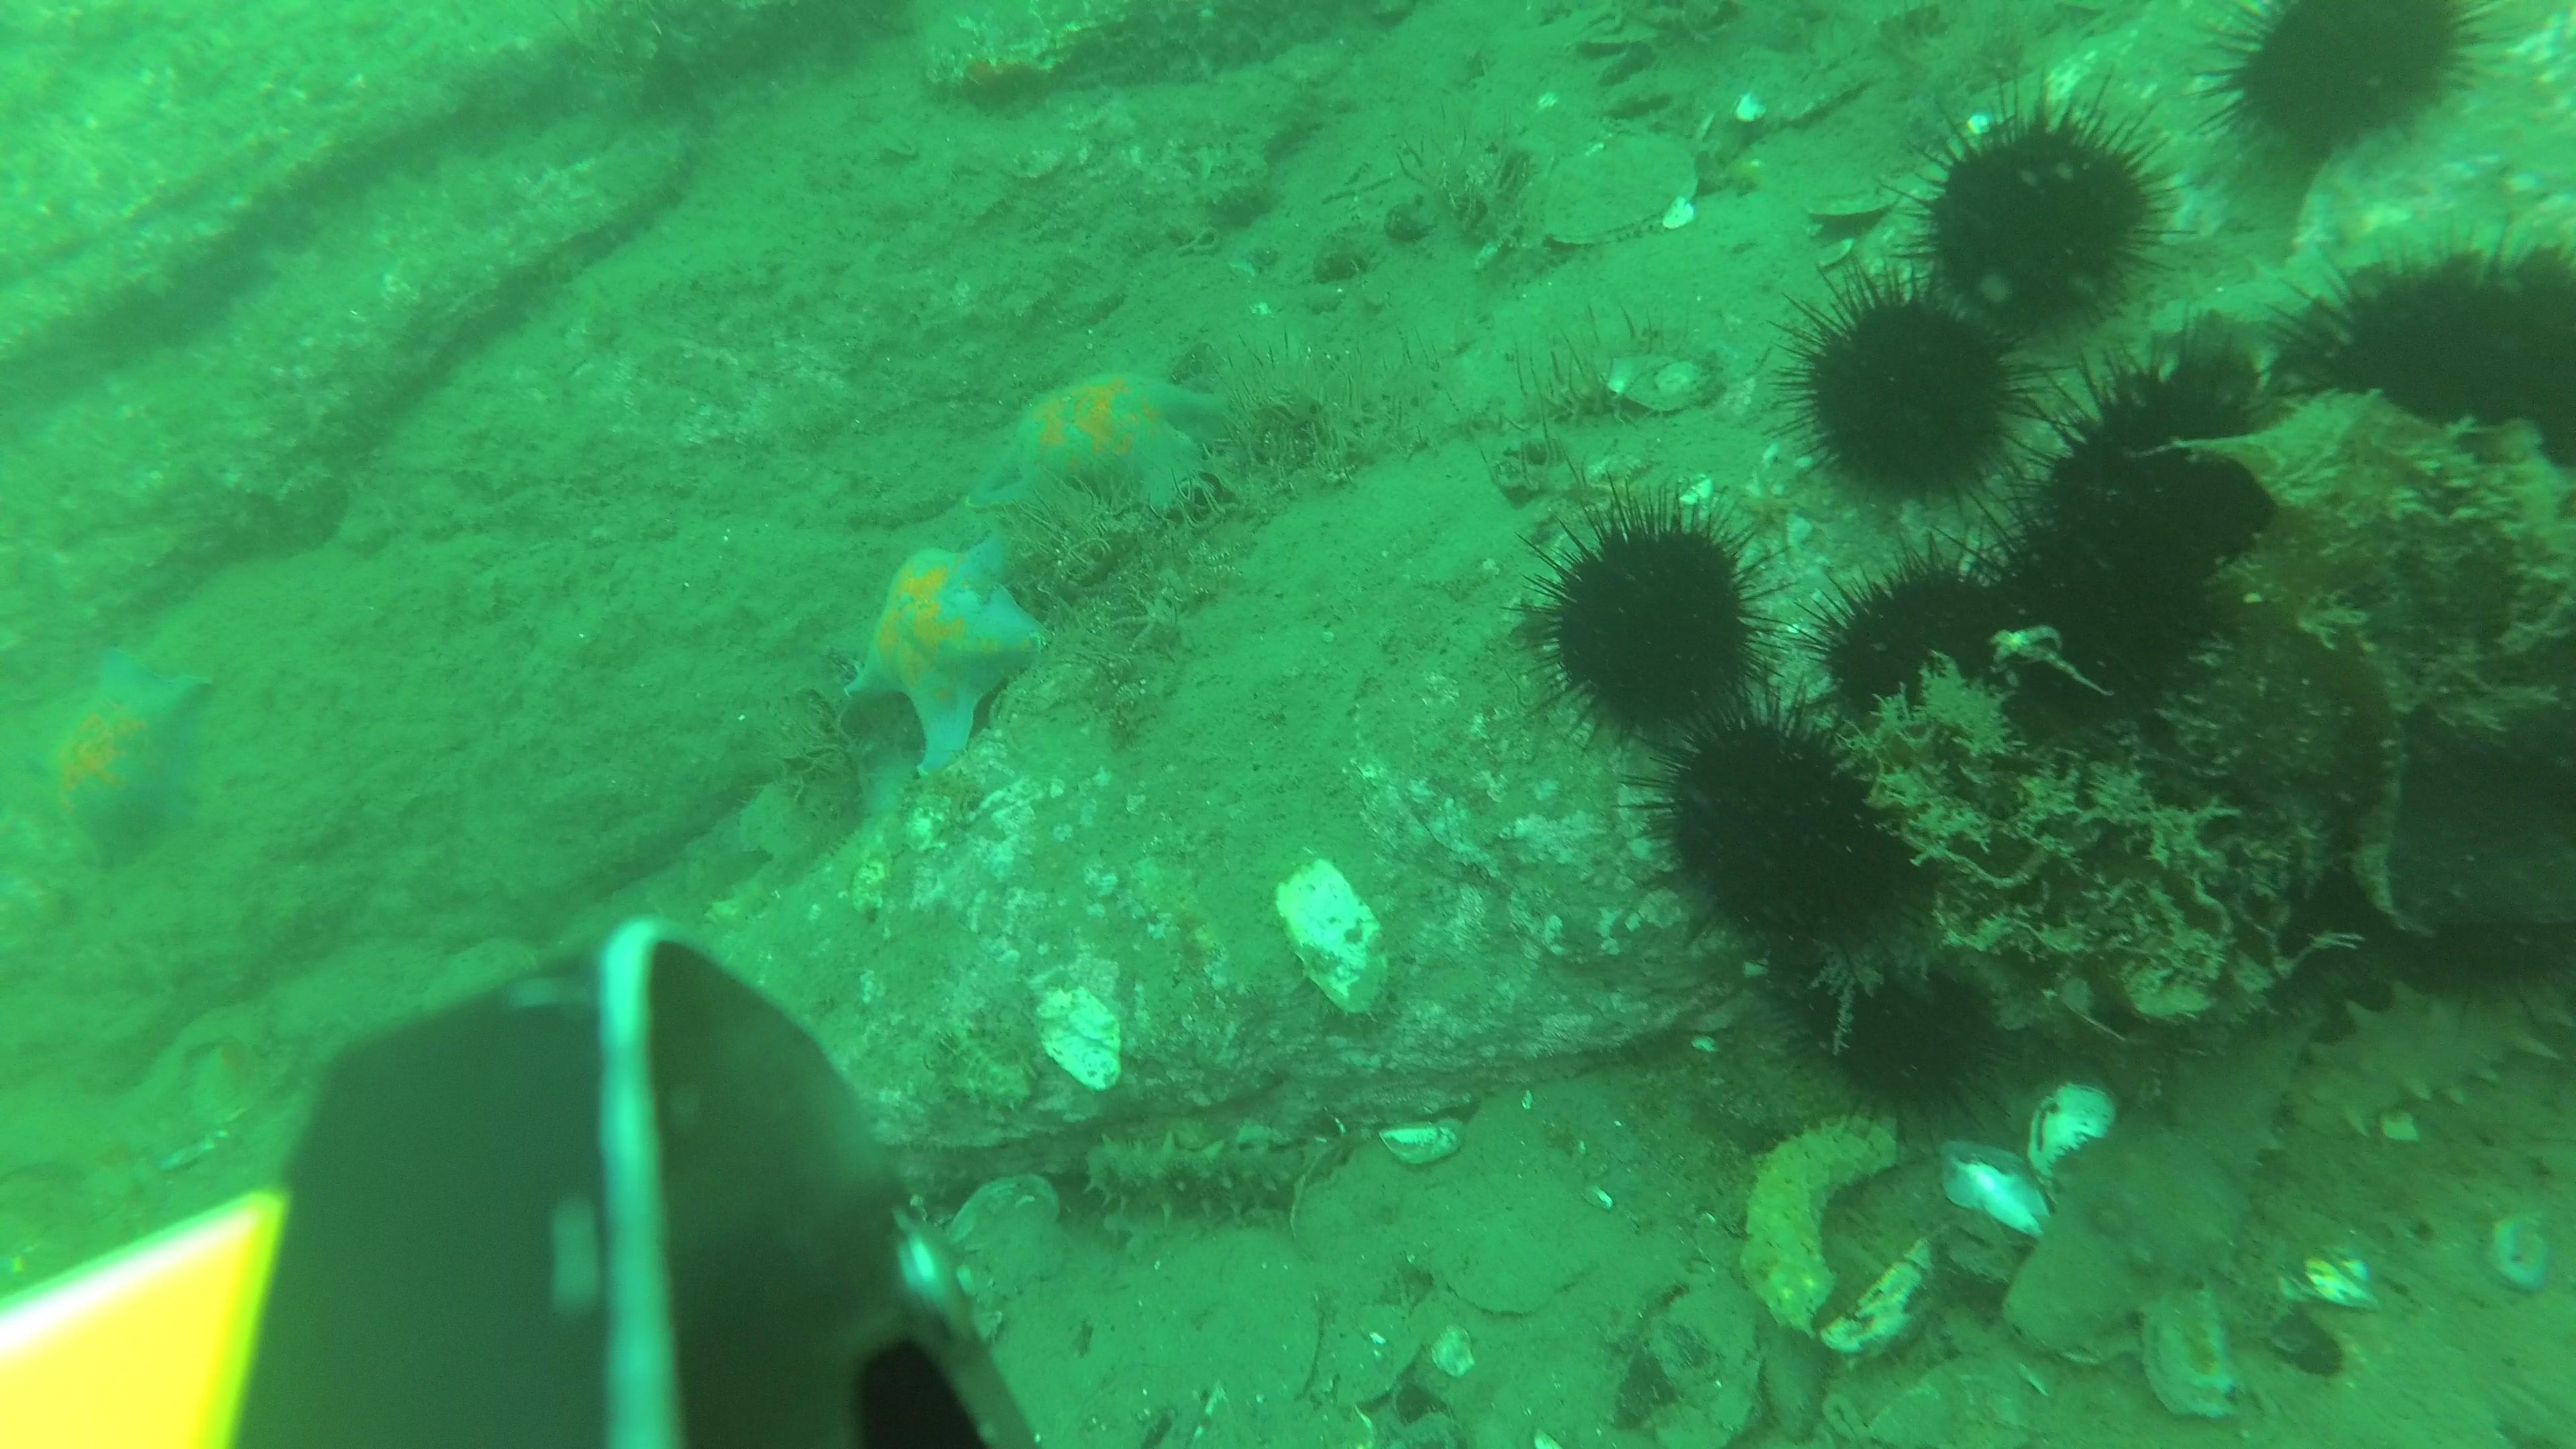echinus: (1882, 69, 2189, 366), (1633, 678, 1932, 962), (1780, 258, 2075, 522), (1522, 478, 1794, 761), (1971, 483, 2236, 763), (2031, 331, 2293, 614), (1810, 531, 2051, 784), (1773, 934, 2020, 1138), (2199, 0, 2491, 165), (2291, 234, 2502, 448), (2376, 828, 2576, 1040), (2201, 830, 2367, 1000), (2473, 234, 2576, 492)
holothurian: (2013, 1010, 2323, 1366), (2295, 971, 2576, 1148), (2160, 209, 2502, 341), (1086, 1129, 1352, 1226)
scallop: (1543, 134, 1700, 249), (945, 1169, 1072, 1309), (428, 938, 548, 1047)
starfish: (844, 525, 1053, 777), (37, 644, 214, 876), (964, 370, 1224, 518)
